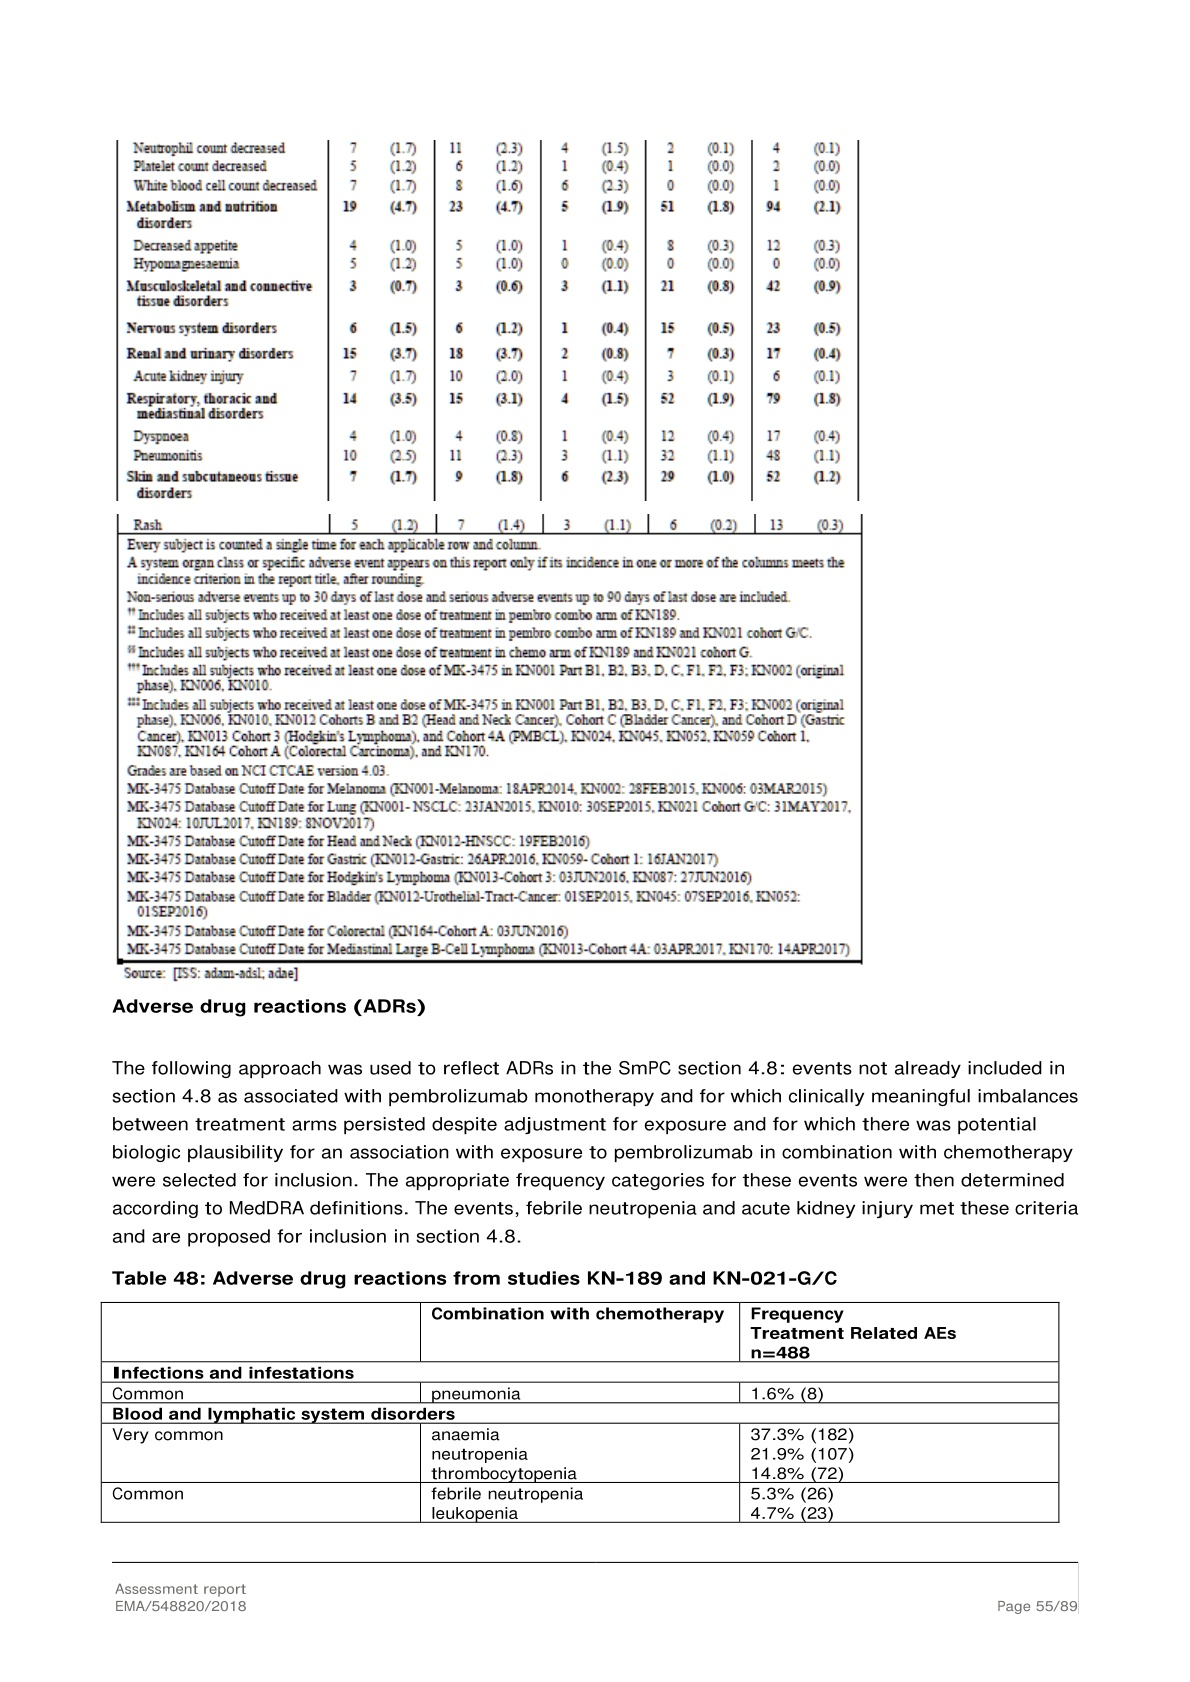partial_lined_merged_cells: (113, 131, 865, 965), (99, 1299, 1061, 1525)
